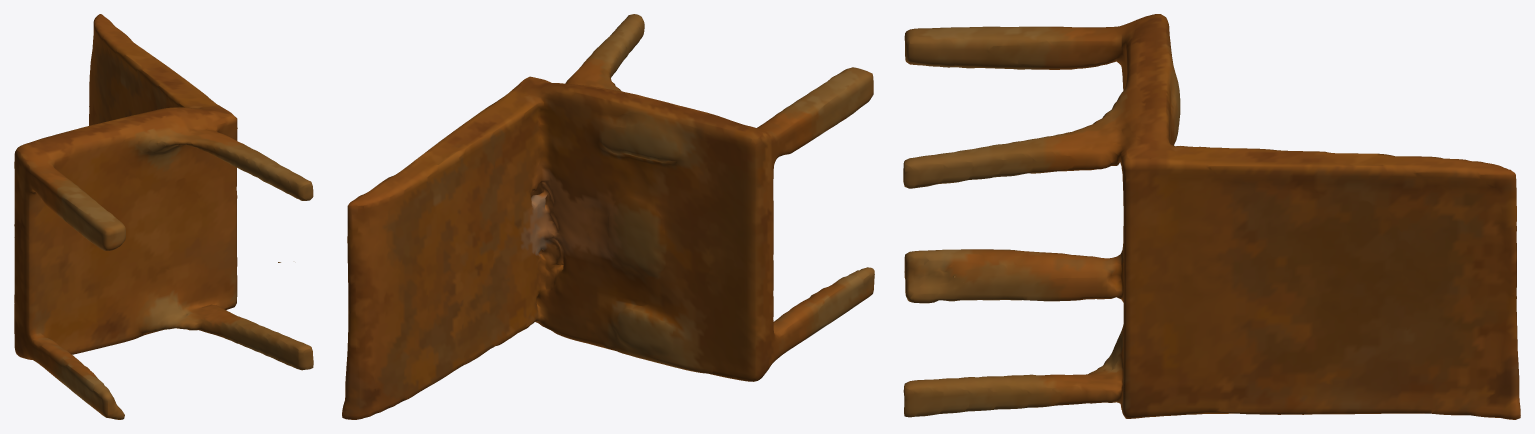
File: A brown wooden rocking chair with beige and grey s.glb
3 views of the same model, side by side, from view 1: azimuth 30°, elevation 25°; view 2: azimuth 150°, elevation 25°; view 3: azimuth 270°, elevation 25° (orthographic). The views are drawn at different scales.
Parts seen in each view (by area): view 1: A brown wooden rocking chair with beige and grey s; view 2: A brown wooden rocking chair with beige and grey s; view 3: A brown wooden rocking chair with beige and grey s.
Boxes of the visible parts, left/top/right/bottom form: A brown wooden rocking chair with beige and grey s: left=14, top=14, right=313, bottom=419; A brown wooden rocking chair with beige and grey s: left=342, top=14, right=874, bottom=419; A brown wooden rocking chair with beige and grey s: left=903, top=14, right=1520, bottom=419.
Size of the model in its own units: 0.5764 by 0.516 by 1.01.
